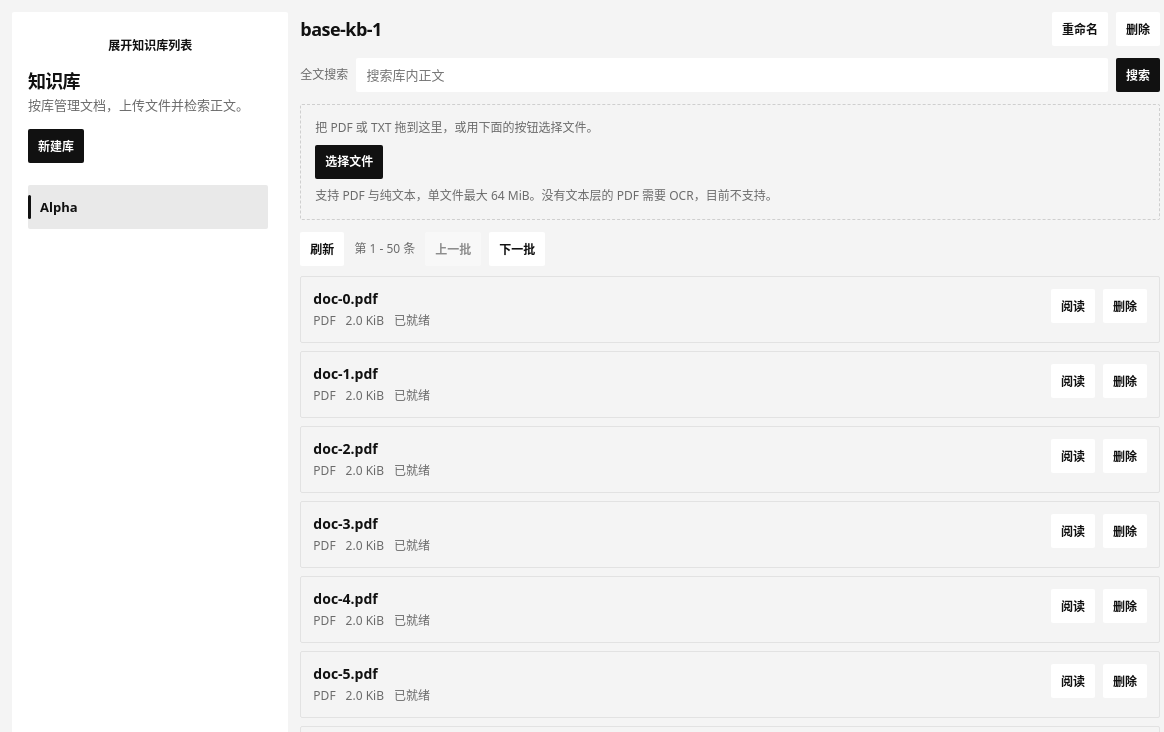
Scenario: KnowledgePage › hides rows past the window and enables the next one
This screenshot has width=1164, height=732.
Expected: the text "doc-50.pdf" is not shown
Step 1. Click the button "下一批" → (517, 249), box left=489, top=232, right=545, bottom=266
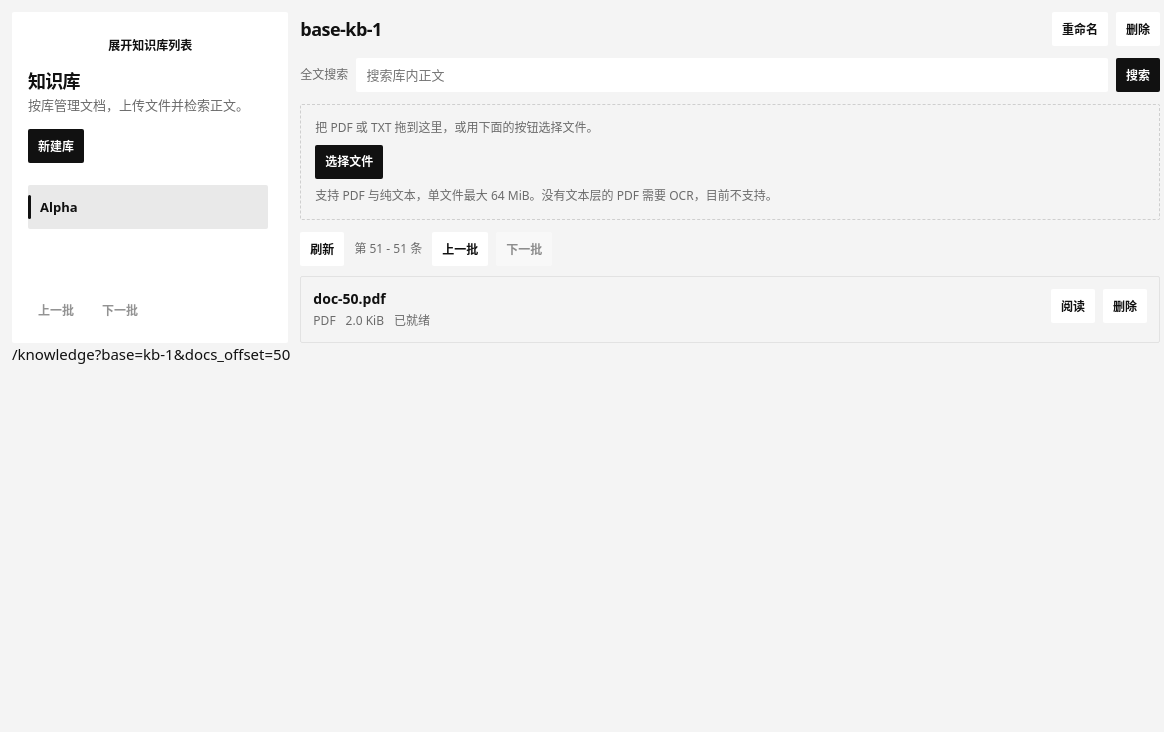
Now the button "doc-50.pdf" is shown, box left=313, top=289, right=430, bottom=308
Now the text with test id "location" shows "docs_offset=50", box left=12, top=344, right=290, bottom=364
